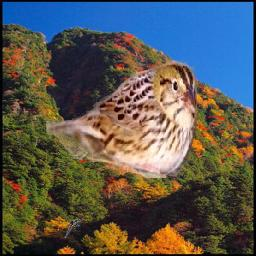Sparrow: (47, 60, 198, 178)
Swallow: (64, 218, 84, 239)
